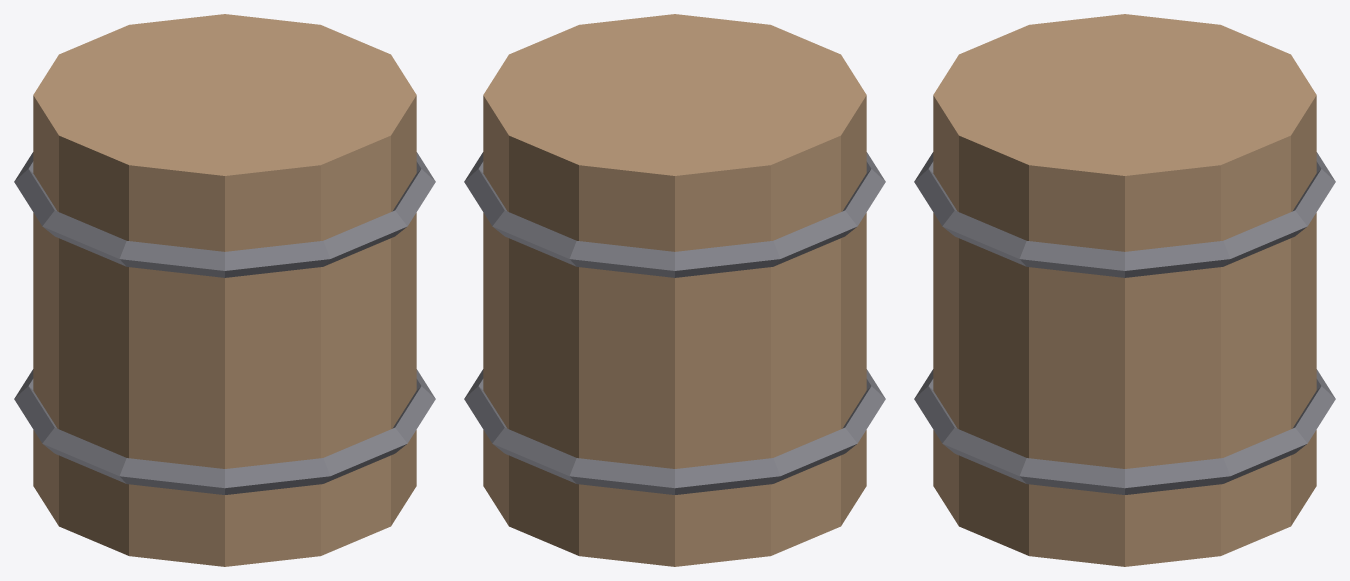
File: barril.glb
3 views of the same model, side by side, from view 1: azimuth 30°, elevation 25°; view 2: azimuth 150°, elevation 25°; view 3: azimuth 270°, elevation 25° (orthographic).
Parts seen in each view (by area): view 1: barril; view 2: barril; view 3: barril.
Part boxes in pixels (x1,y1,x2,y2): barril: (14, 14, 435, 566); barril: (464, 14, 885, 566); barril: (914, 14, 1335, 566).
Size of the model in its own units: 0.88 by 0.9 by 0.88.
